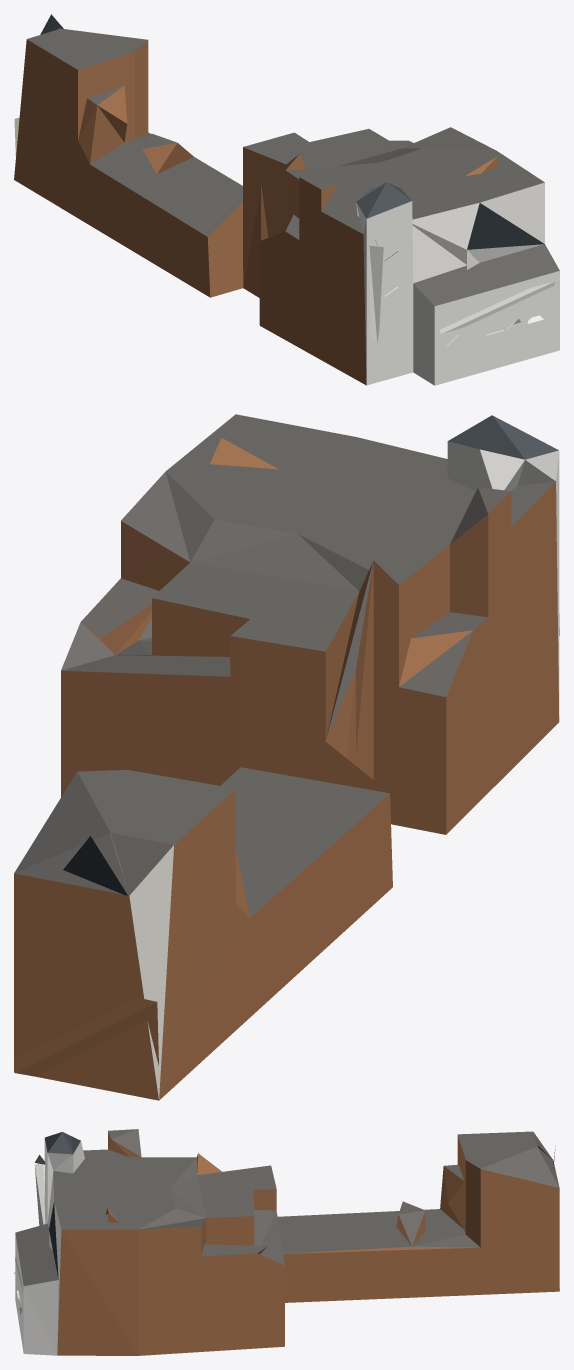
The model's file is de-kroon-rembrandtplein.lod2.glb.
The picture shows the model from 3 angles, top to bottom: view 1: azimuth 30°, elevation 25°; view 2: azimuth 150°, elevation 25°; view 3: azimuth 270°, elevation 25°; orthographic projection. The views are drawn at different scales.
Visible parts, largest first — view 1: lod2; view 2: lod2; view 3: lod2.
Boxes of the visible parts, x1,y1,x2,y2 form: lod2: (14, 14, 559, 385); lod2: (14, 414, 559, 1100); lod2: (14, 1129, 559, 1355).
Bounding box in the file's own units: 29.7 × 22.09 × 68.37.
